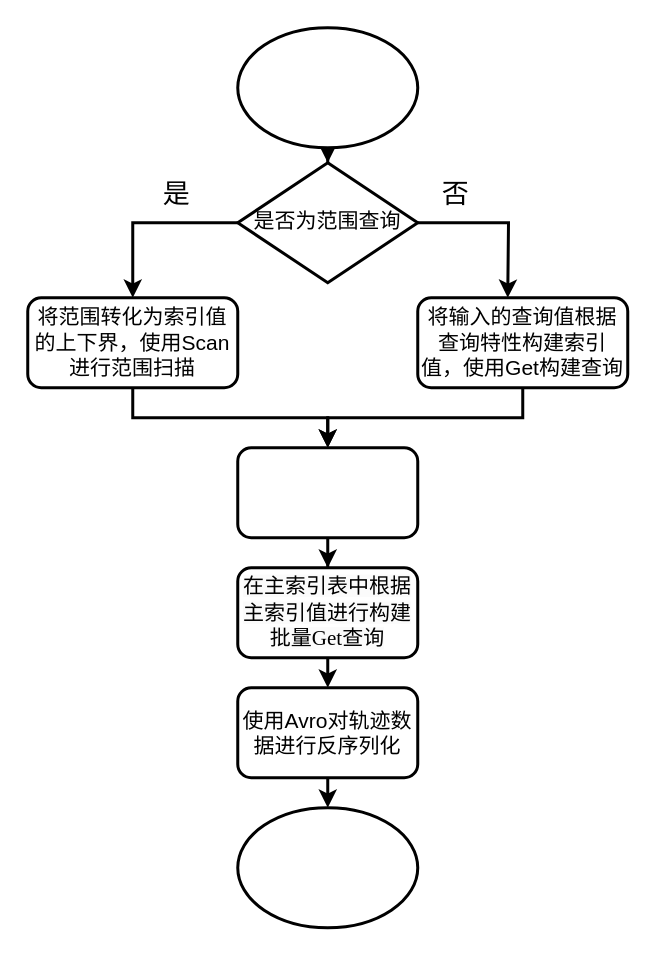
The diagram is 654 pixels wide and 954 high, and some of its shapes have lost their labels. Here are the shapes that lost their labels. From the top down, the centre of each, then its label:
the point at 327,87: 开始
the point at 327,492: 在二级索引表中查询对应主索引值
the point at 327,867: 数据返回
